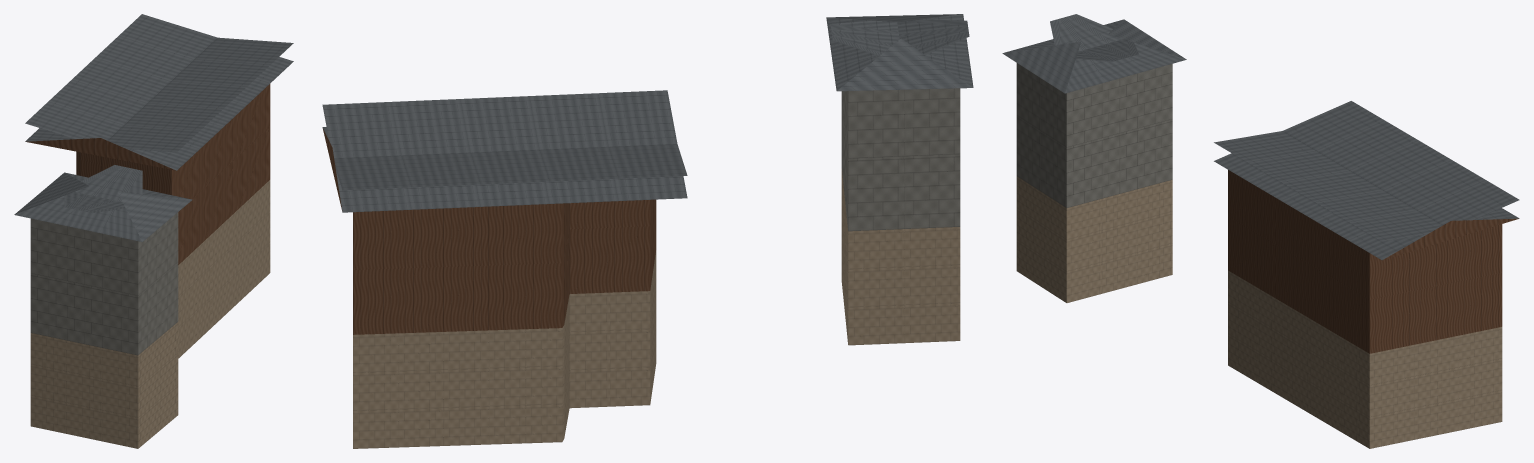
File: bld_c9_16_450.gltf
3 views of the same model, side by side, from view 1: azimuth 30°, elevation 25°; view 2: azimuth 150°, elevation 25°; view 3: azimuth 270°, elevation 25° (orthographic). The views are drawn at different scales.
Parts seen in each view (by area): view 1: bld_c9_16_450; view 2: bld_c9_16_450; view 3: bld_c9_16_450.
Part boxes in pixels (x1=…): bld_c9_16_450: x1=14, y1=14, x2=293, y2=448; bld_c9_16_450: x1=322, y1=14, x2=973, y2=448; bld_c9_16_450: x1=1002, y1=14, x2=1519, y2=448.
Size of the model in its own units: 23.22 by 14 by 25.16.
5 materials, 5 textured.
